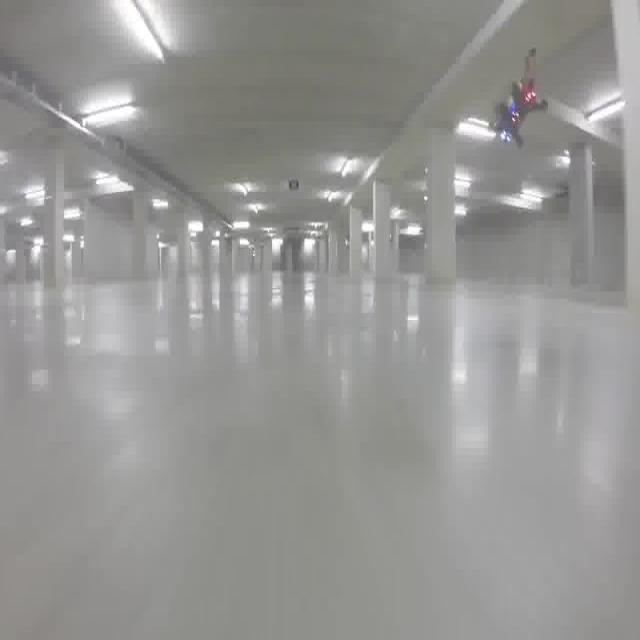drone: (486, 45, 551, 147)
